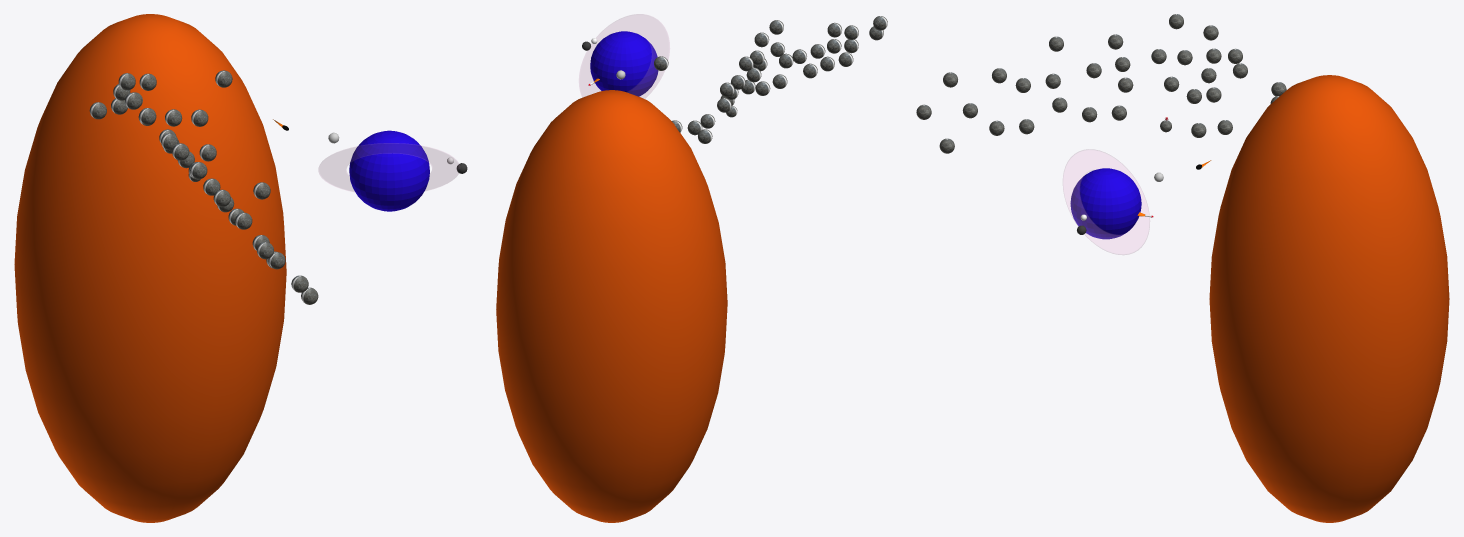
File: sPACe.glb
3 views of the same model, side by side, from view 1: azimuth 30°, elevation 25°; view 2: azimuth 150°, elevation 25°; view 3: azimuth 270°, elevation 25° (orthographic). The views are drawn at different scales.
Visible parts, largest first — view 1: Sphere.001, Sphere, Torus.001; view 2: Sphere.001, Sphere, Torus.001; view 3: Sphere.001, Sphere, Torus.001.
Boxes of the visible parts, x1,y1,x2,y2 form: Sphere.001: (14,14,286,522); Sphere: (349,130,429,211); Torus.001: (318,143,459,191); Sphere.001: (496,90,727,522); Sphere: (590,31,658,96); Torus.001: (579,14,669,98); Sphere.001: (1209,75,1449,522); Sphere: (1070,168,1141,239); Torus.001: (1063,149,1149,254).
Bounding box in the file's own units: 207 × 356 × 370.
Materials: 48 (34 with a texture image).
